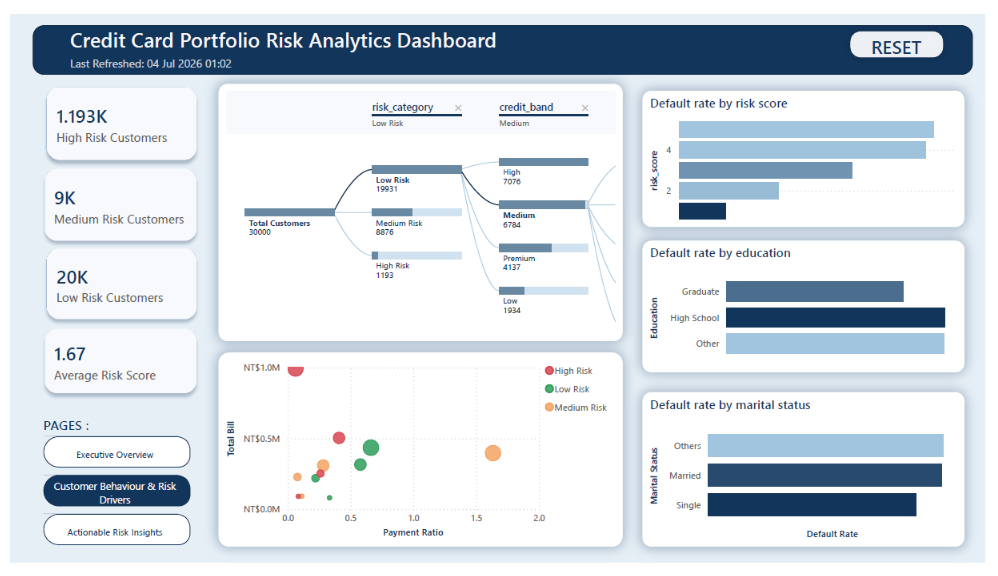

The page's visual inventory and layout, read from the dashboard file:
{"tool":"powerbi","page":{"name":"Customer Behaviour & Risk Drivers","canvas":[1280,720],"ordinal":1},"visuals":[{"type":"shape","box":[28.6,14.3,1235.7,64.3],"z":0},{"type":"textbox","title":"Credit Card Portfolio Risk Analytics Dashboard","box":[72.9,14.3,624.3,64.3],"z":1000},{"type":"cardVisual","fields":{"Data":["Measures (2).High Risk Customers"]},"box":[18.6,67.1,254.3,152.9],"z":2000},{"type":"cardVisual","fields":{"Data":["Measures (2).Medium Risk Customers"]},"box":[15.7,174.3,257.1,151.4],"z":3000},{"type":"cardVisual","fields":{"Data":["Measures (2).Low Risk Customers"]},"box":[18.6,278.6,254.3,150],"z":4000},{"type":"cardVisual","fields":{"Data":["Measures (2).Average Risk Score"]},"box":[15.7,384.3,257.1,141.4],"z":5000},{"type":"shape","box":[1093.3,11.7,141.7,55],"z":6000},{"type":"actionButton","title":"RESET","box":[1117,26,92.9,28.6],"z":7000},{"type":"barChart","title":"Default rate by education","fields":{"Category":["customers.Education Name"],"Y":["Measures (2).Default Rate"]},"box":[830,297.1,422.9,172.9],"z":8000},{"type":"pageNavigator","title":"PAGES :","box":[42.9,527.1,192.9,171.4],"z":9000},{"type":"decompositionTreeVisual","fields":{"Analyze":["Measures (2).Total Customers"],"ExplainBy":["customers.risk_category","customers.credit_band","customers.age_group"]},"box":[272.9,91.4,531.4,337.1],"z":10000},{"type":"scatterChart","fields":{"Category":["customers.credit_band"],"Series":["customers.risk_category"],"Size":["Avg(customers.LIMIT_BAL)"],"X":["Avg(customers.payment_ratio)"],"Y":["Avg(customers.total_bill)"]},"box":[272.5,443.8,531.2,255],"z":11000},{"type":"barChart","title":"Default rate by marital status","fields":{"Category":["customers.Marital Status"],"Y":["Measures (2).Default Rate"]},"box":[830,495.7,422.9,202.9],"z":12000},{"type":"barChart","title":"Default rate by risk score","fields":{"Category":["customers.risk_score"],"Y":["Measures (2).Default Rate"]},"box":[830,100,422.9,178.6],"z":13000}]}

Visuals, with their boxes in screenshot pixels (x1, y1, x2, y2), scaled from the page's 1280x720 canvas onto the 998x576 screenshot:
shape: locate(22, 11, 986, 63)
"Credit Card Portfolio Risk Analytics Dashboard" textbox: locate(57, 11, 544, 63)
cardVisual - Measures (2).High Risk Customers: locate(15, 54, 213, 176)
cardVisual - Measures (2).Medium Risk Customers: locate(12, 139, 213, 261)
cardVisual - Measures (2).Low Risk Customers: locate(15, 223, 213, 343)
cardVisual - Measures (2).Average Risk Score: locate(12, 307, 213, 421)
shape: locate(852, 9, 963, 53)
"RESET" actionButton: locate(871, 21, 943, 44)
"Default rate by education" barChart: locate(647, 238, 977, 376)
"PAGES :" pageNavigator: locate(33, 422, 184, 559)
decompositionTreeVisual - Measures (2).Total Customers x customers.risk_category: locate(213, 73, 627, 343)
scatterChart - customers.credit_band x customers.risk_category: locate(212, 355, 627, 559)
"Default rate by marital status" barChart: locate(647, 397, 977, 559)
"Default rate by risk score" barChart: locate(647, 80, 977, 223)
